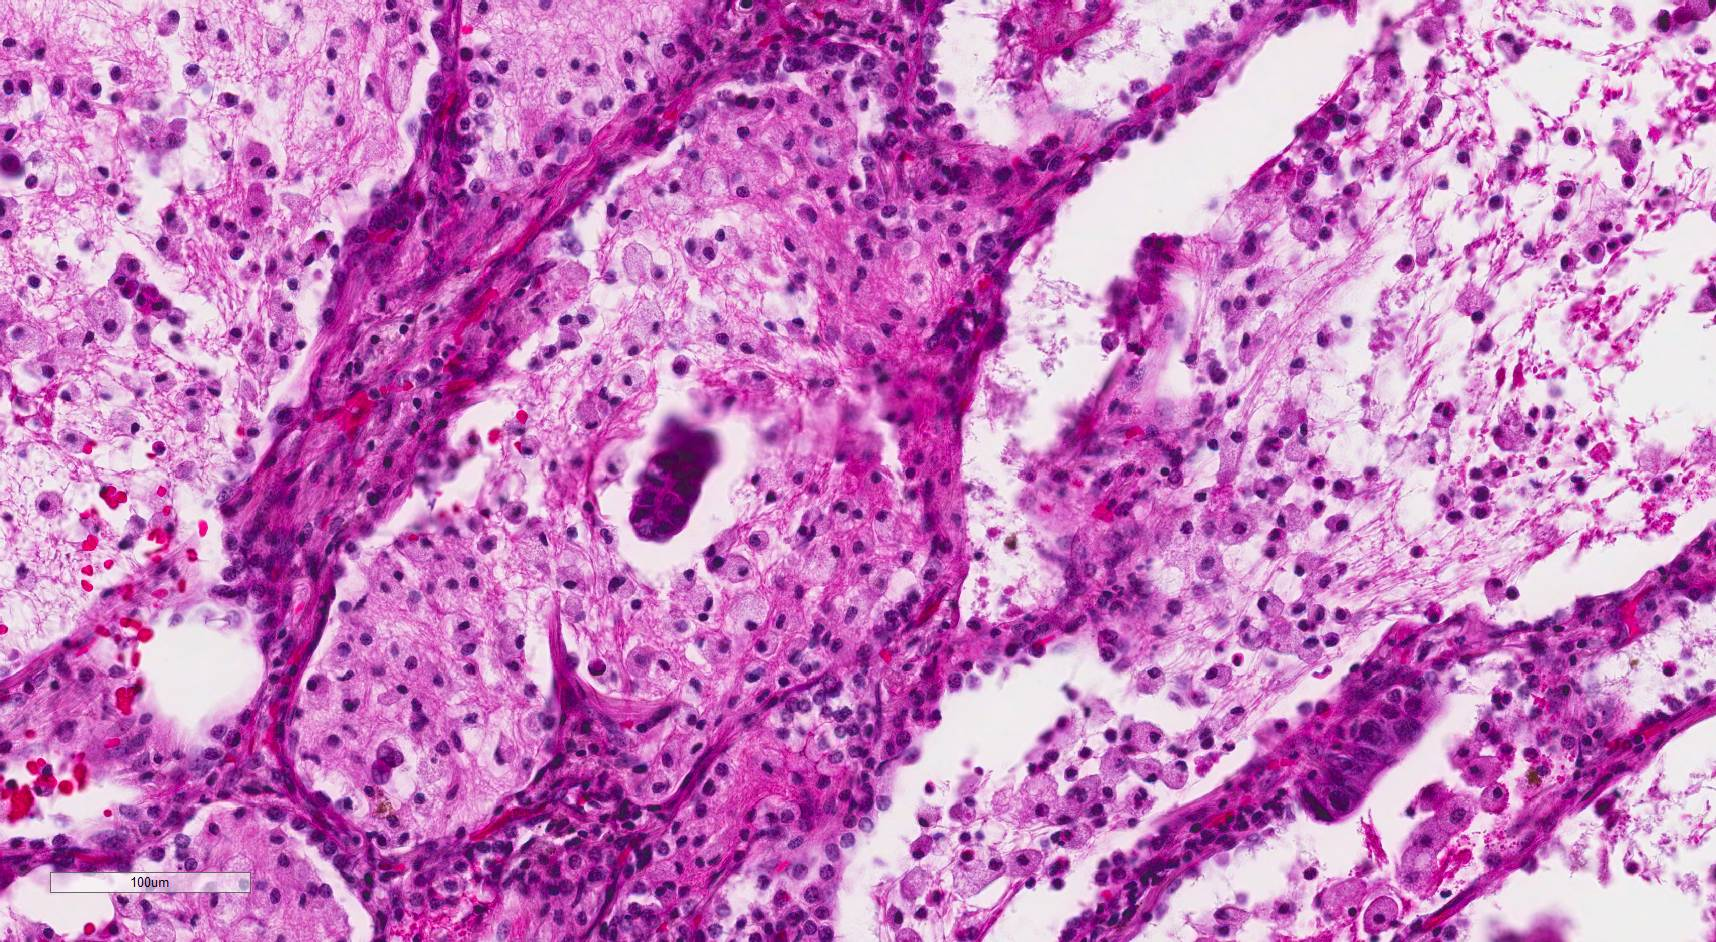stas: (625, 416, 722, 545)
